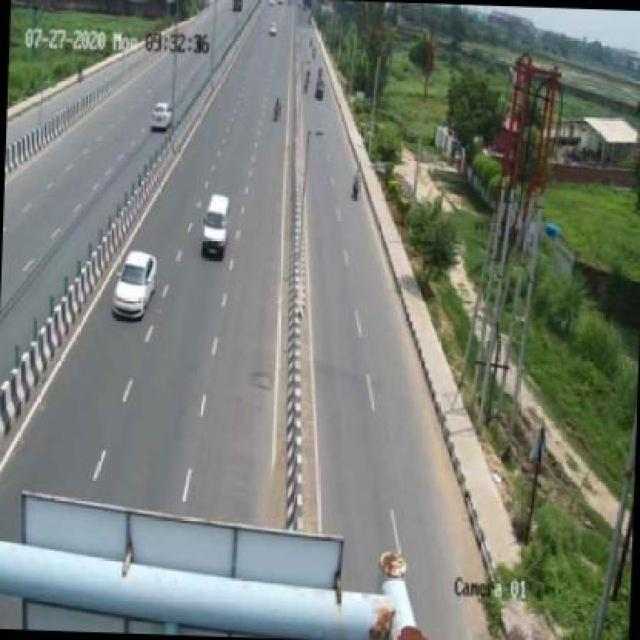car: (112, 252, 158, 323), (200, 194, 229, 260), (148, 97, 172, 128)
